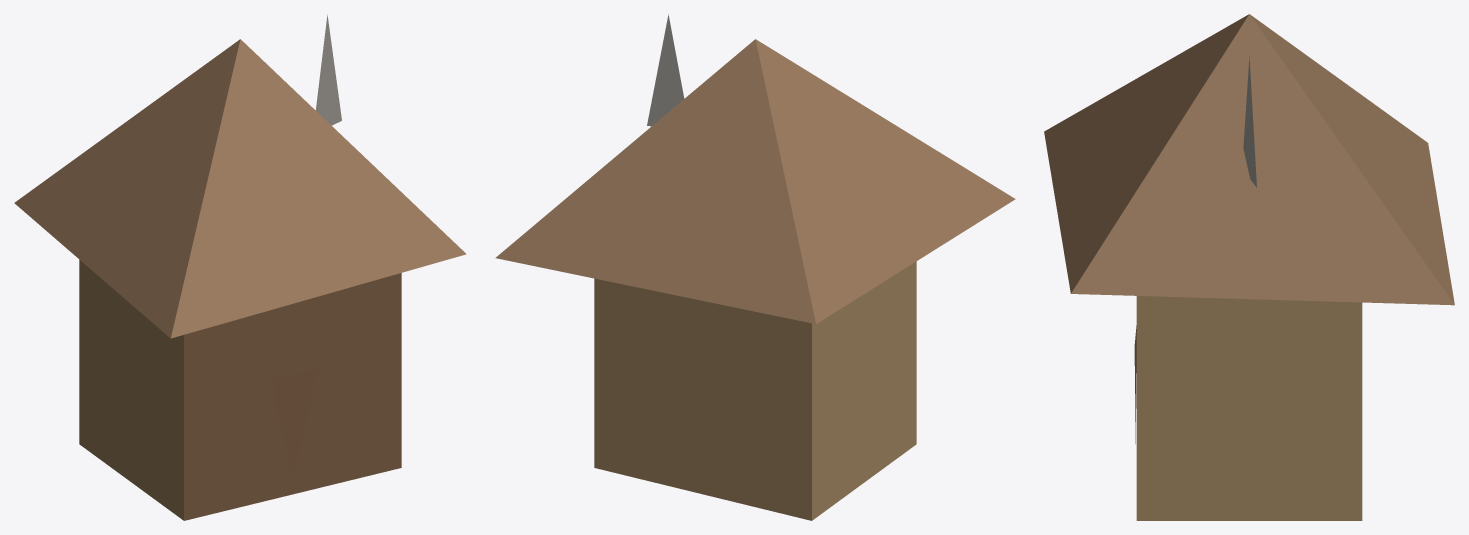
File: cabin_unified.glb
The picture shows the model from 3 angles, left to right: view 1: azimuth 30°, elevation 25°; view 2: azimuth 150°, elevation 25°; view 3: azimuth 270°, elevation 25°; orthographic projection. The views are drawn at different scales.
Parts seen in each view (by area): view 1: Cabin; view 2: Cabin; view 3: Cabin.
Part boxes in pixels (bbox=[...]): Cabin: bbox=[14, 14, 466, 520]; Cabin: bbox=[495, 14, 1015, 520]; Cabin: bbox=[1044, 14, 1454, 520].
Bounding box in the file's own units: 4.55 × 5.55 × 4.55.
